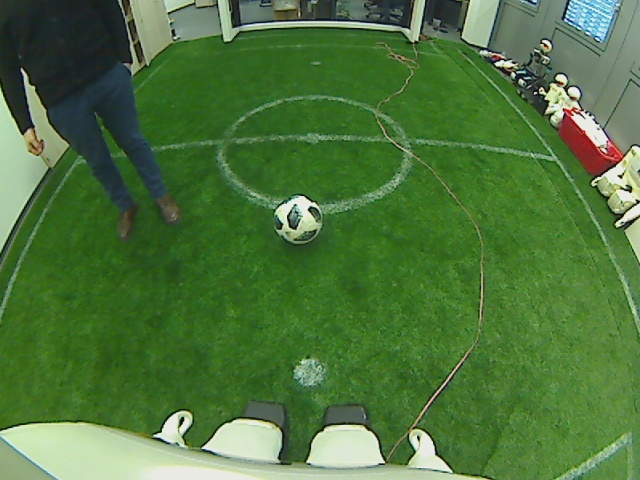ball: (273, 194, 323, 243)
